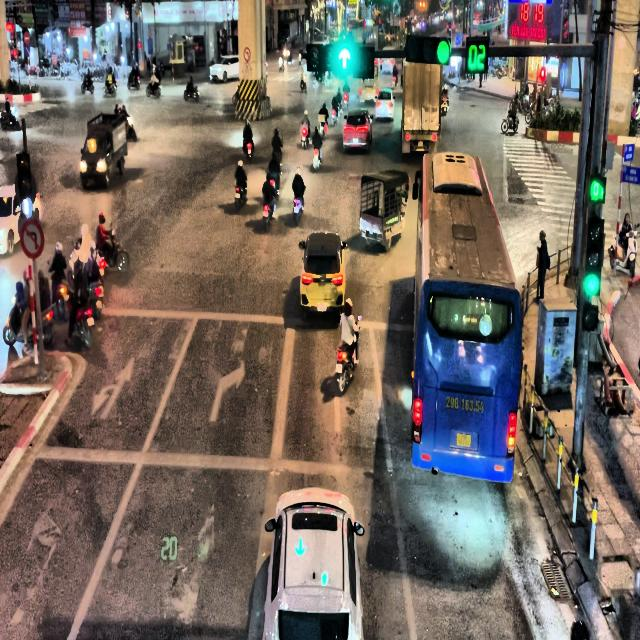BUS: (410, 150, 523, 483)
CAR: (262, 486, 364, 640), (298, 231, 348, 320), (343, 108, 372, 153), (209, 54, 239, 82), (375, 87, 395, 120)
MOTORBIKE: (66, 238, 96, 350), (2, 295, 54, 348), (335, 314, 362, 394), (98, 229, 129, 274), (115, 104, 136, 140), (262, 196, 276, 232), (501, 110, 519, 134), (234, 181, 247, 210), (293, 195, 304, 225), (268, 171, 280, 196), (146, 80, 162, 98), (242, 138, 254, 161), (312, 144, 322, 170), (184, 84, 199, 100), (81, 76, 94, 94), (301, 124, 310, 148), (104, 80, 116, 97), (318, 118, 328, 138), (128, 74, 140, 90), (300, 72, 307, 91), (331, 107, 337, 126), (278, 58, 284, 72)
